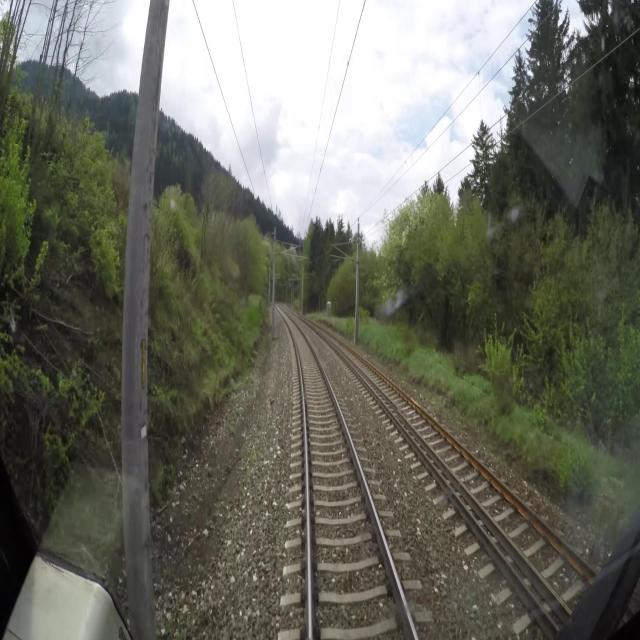rail-track: (316, 327, 560, 585), (281, 311, 414, 639)
